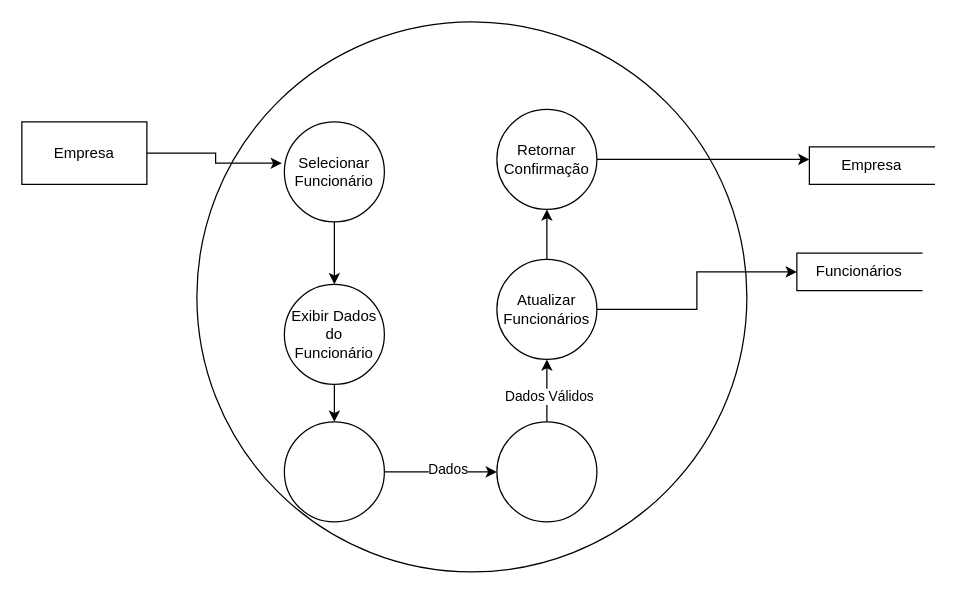
This 956x594 diagram has some shape labels left out. The centre of each missing label's shape, as x and y in pixels:
"Receber novos Dados" belongs at (333,471).
"Validar Dados" belongs at (546,471).
